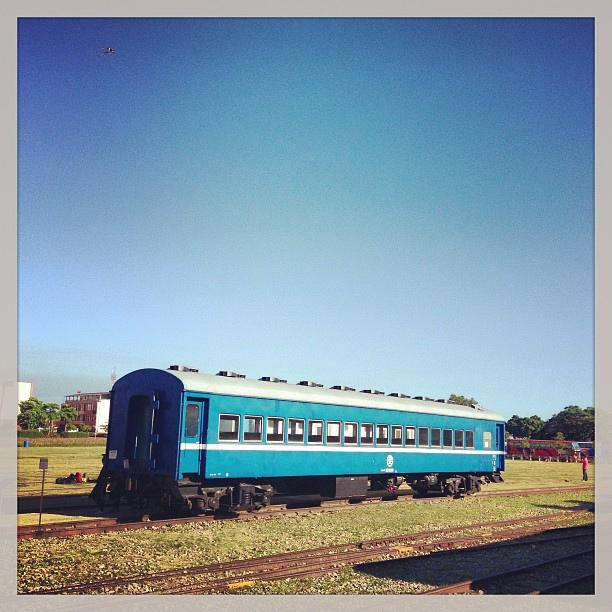Train: (97, 370, 509, 515)
